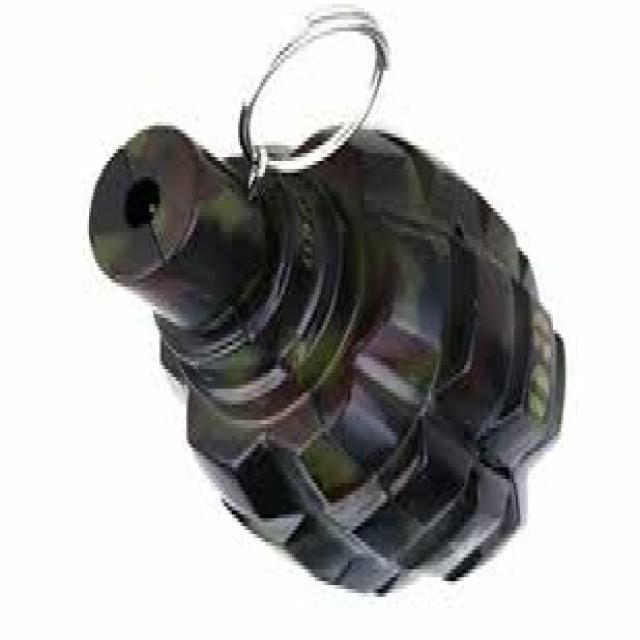grenade: (82, 1, 577, 609)
